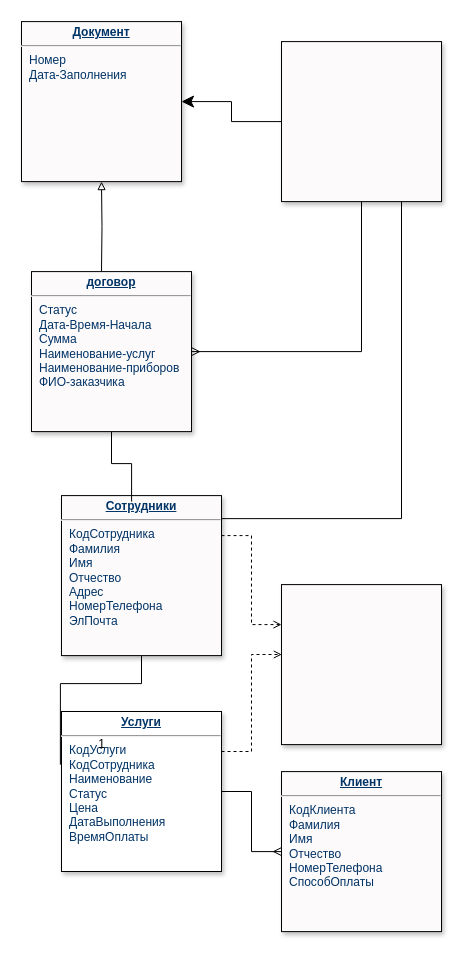
Image size: 465x956. Some labels were removed from this diagram. The shapes that lost their labels are listed below. From the top down, each one's centre as x and y in pixels, then its label:
At (x=362, y=123): "Проект Статус Дата-Начала Дата-Окончания Цена".
At (x=362, y=666): "Специализация сотрудника КодСотрудника КодУслуги Должность".
